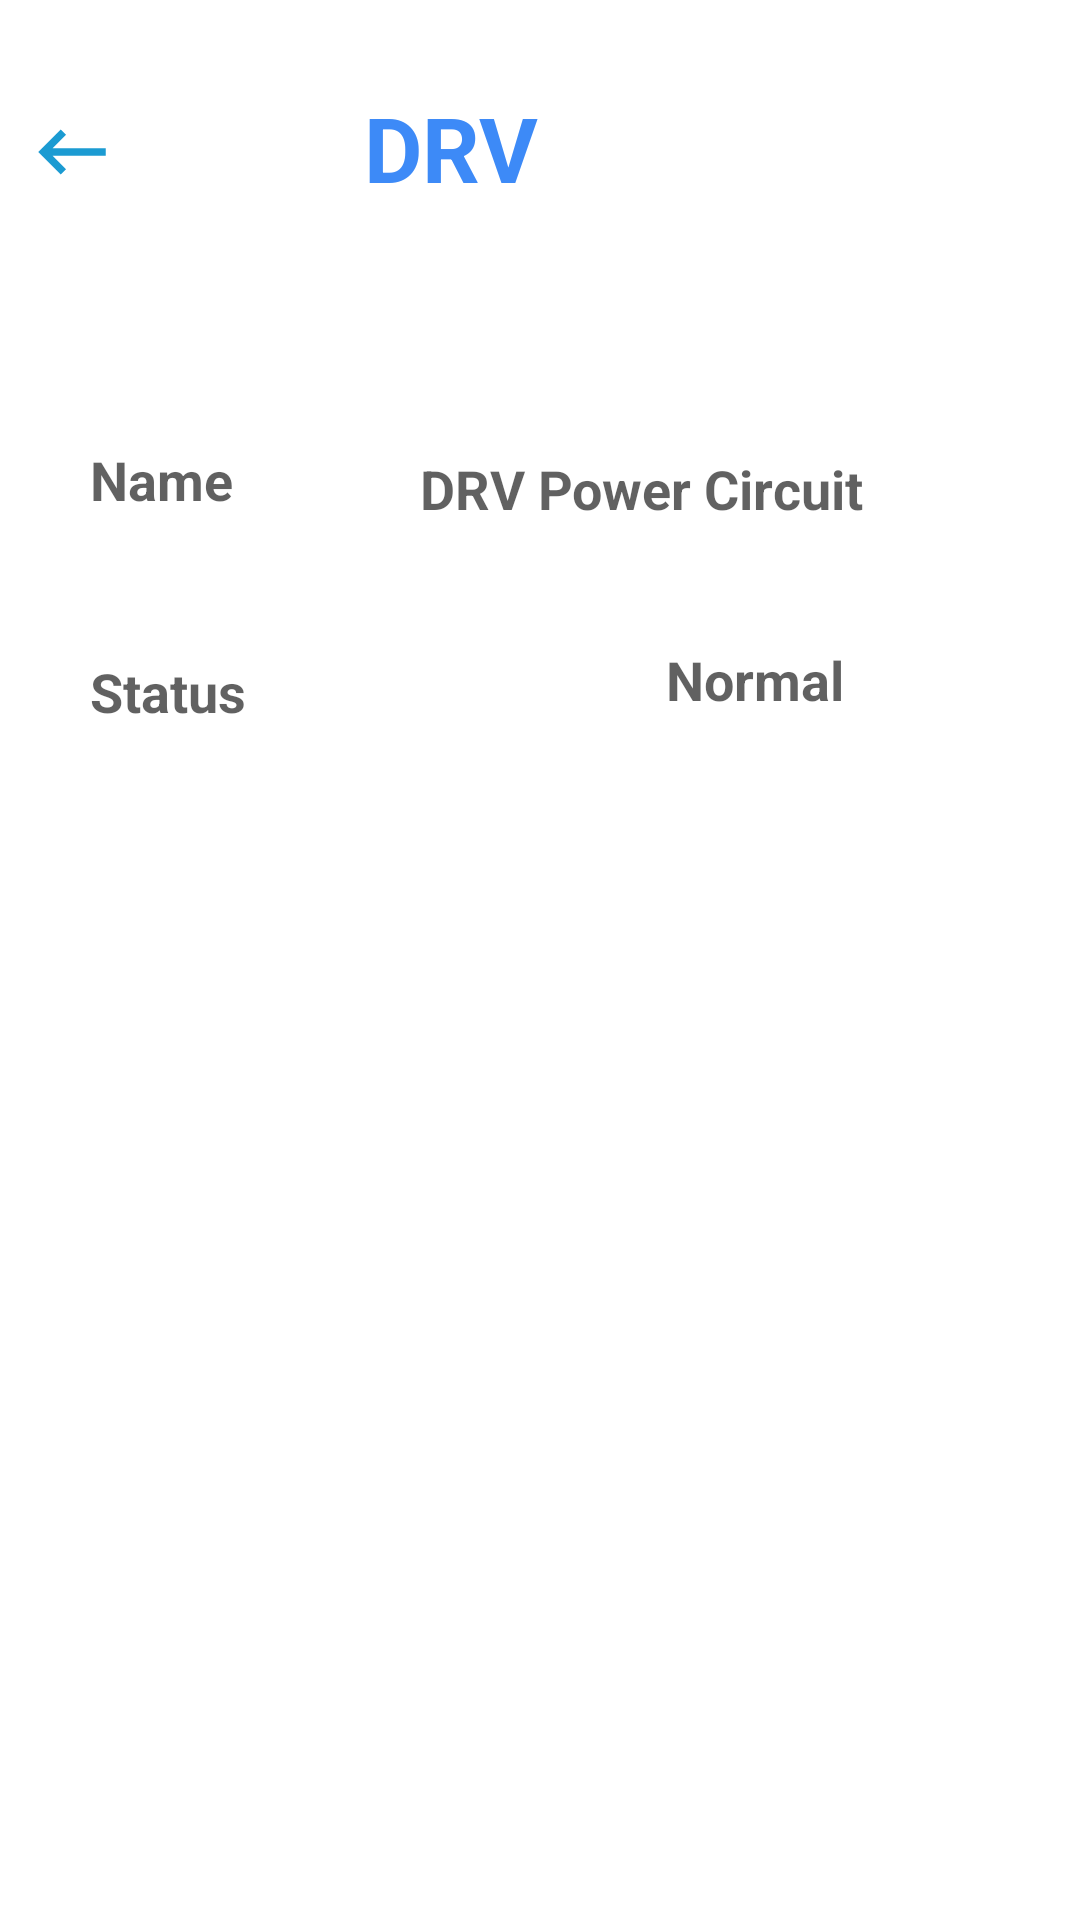

Icons on this 1080 × 1920 Android screen, each with its box as region(x1, y1, x2, y2):
keyboard backspace: region(38, 129, 106, 175)
